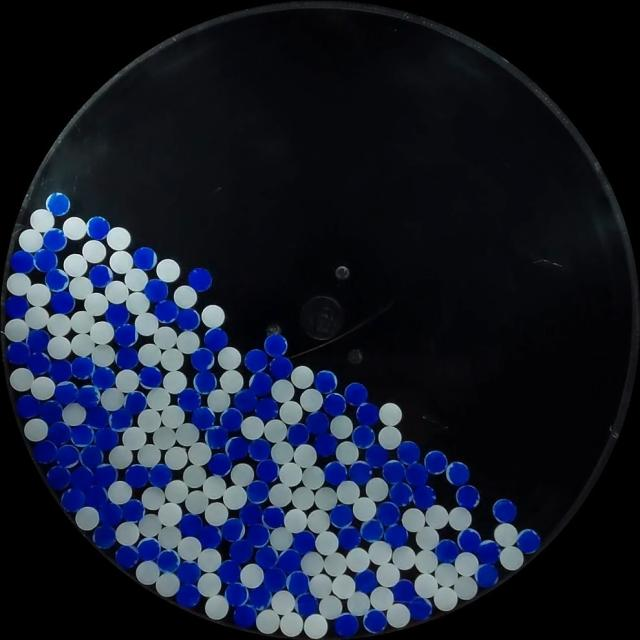pmmma-azul: (69, 465, 95, 491), (98, 501, 124, 527), (218, 558, 244, 584), (434, 538, 459, 564), (252, 396, 278, 421), (125, 463, 150, 488), (457, 528, 482, 553), (381, 459, 406, 484), (55, 443, 80, 468), (94, 426, 119, 451), (38, 399, 63, 424), (61, 487, 86, 512), (362, 609, 387, 634), (229, 538, 254, 563), (176, 583, 201, 608), (26, 351, 51, 376), (249, 370, 273, 396), (277, 548, 301, 574), (46, 465, 72, 489), (516, 528, 540, 554), (75, 385, 101, 409), (84, 406, 110, 430), (93, 462, 117, 487), (47, 421, 72, 445), (224, 582, 248, 607), (191, 406, 216, 430), (221, 517, 245, 542), (456, 484, 480, 509), (196, 524, 221, 548), (207, 452, 232, 476), (376, 501, 400, 526), (16, 394, 40, 419), (4, 296, 29, 320), (114, 323, 138, 348), (329, 503, 353, 528), (424, 449, 448, 474), (154, 299, 179, 323), (176, 561, 201, 585), (492, 498, 516, 523), (475, 563, 499, 588), (404, 462, 428, 487), (264, 332, 288, 357), (391, 578, 416, 602), (45, 268, 70, 292), (50, 291, 75, 315), (412, 484, 436, 509), (46, 192, 71, 216), (204, 426, 229, 450), (363, 443, 388, 467), (70, 423, 94, 448), (256, 458, 279, 484), (33, 440, 56, 466), (226, 436, 250, 460), (115, 544, 139, 568), (188, 267, 212, 291), (360, 518, 384, 542), (191, 347, 215, 371), (177, 388, 201, 412), (137, 538, 161, 562), (176, 308, 200, 332), (92, 524, 116, 548), (314, 433, 338, 457), (239, 502, 263, 526), (194, 370, 218, 394), (148, 463, 172, 487), (396, 440, 420, 464), (352, 424, 376, 448), (389, 481, 413, 505), (348, 460, 372, 484), (247, 584, 271, 608), (233, 604, 257, 628), (334, 612, 358, 636), (42, 228, 66, 252), (344, 382, 368, 406), (7, 340, 31, 364), (446, 461, 470, 485), (475, 540, 499, 564), (408, 596, 432, 620), (34, 248, 58, 272), (179, 514, 203, 538), (254, 544, 278, 568), (262, 566, 286, 590), (49, 359, 74, 382), (220, 407, 243, 432), (10, 250, 35, 273), (337, 526, 360, 550), (244, 349, 268, 372), (296, 593, 319, 617), (384, 524, 407, 548), (270, 355, 293, 379), (287, 571, 310, 595), (356, 402, 379, 426), (314, 370, 338, 393), (92, 366, 115, 390), (306, 411, 329, 435), (246, 480, 269, 504), (120, 498, 144, 521), (144, 279, 168, 302), (324, 461, 347, 485), (248, 438, 271, 462), (204, 328, 228, 351), (54, 381, 77, 405), (27, 328, 50, 352), (109, 408, 133, 431), (133, 247, 157, 270), (80, 444, 103, 468), (124, 390, 147, 414), (89, 264, 112, 288), (105, 303, 129, 326), (87, 216, 110, 240), (323, 392, 346, 415), (116, 346, 139, 369), (157, 549, 180, 572), (247, 523, 270, 546), (138, 366, 162, 388), (287, 422, 309, 446), (355, 569, 377, 593), (262, 506, 285, 528), (71, 356, 93, 379), (84, 486, 107, 508), (294, 530, 316, 553), (233, 388, 255, 409)
